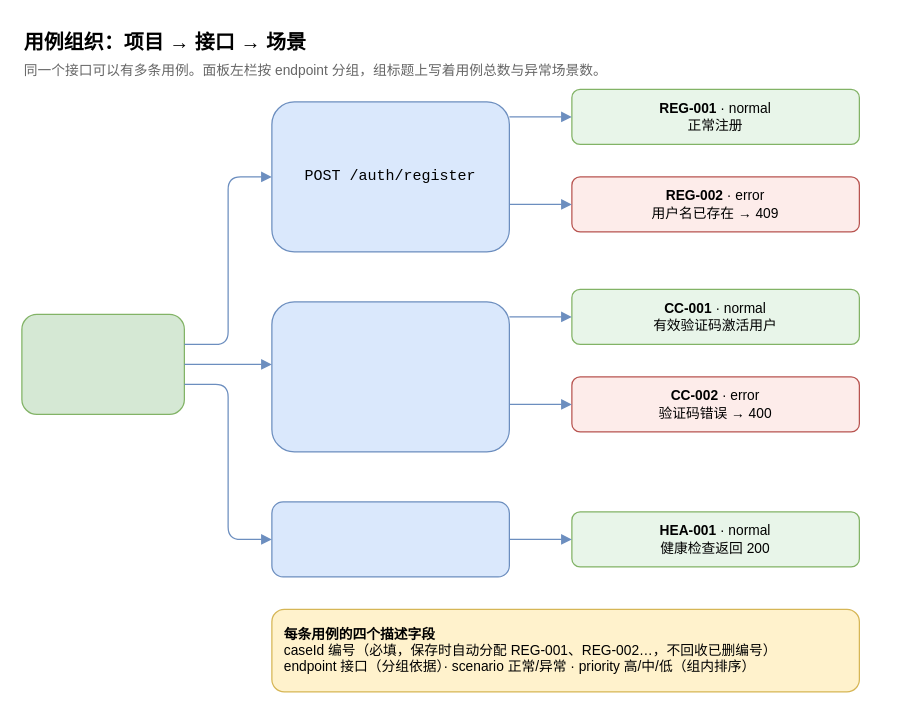
The diagram is 919 pixels wide and 714 high, and some of its shapes have lost their labels. The centre of each missing label's shape, as x and y in pixels:
"GET /health" belongs at point (390, 539).
"POST /auth/confirmCode" belongs at point (390, 376).
"Record 项目 target: record-local db: iam / public" belongs at point (102, 363).
